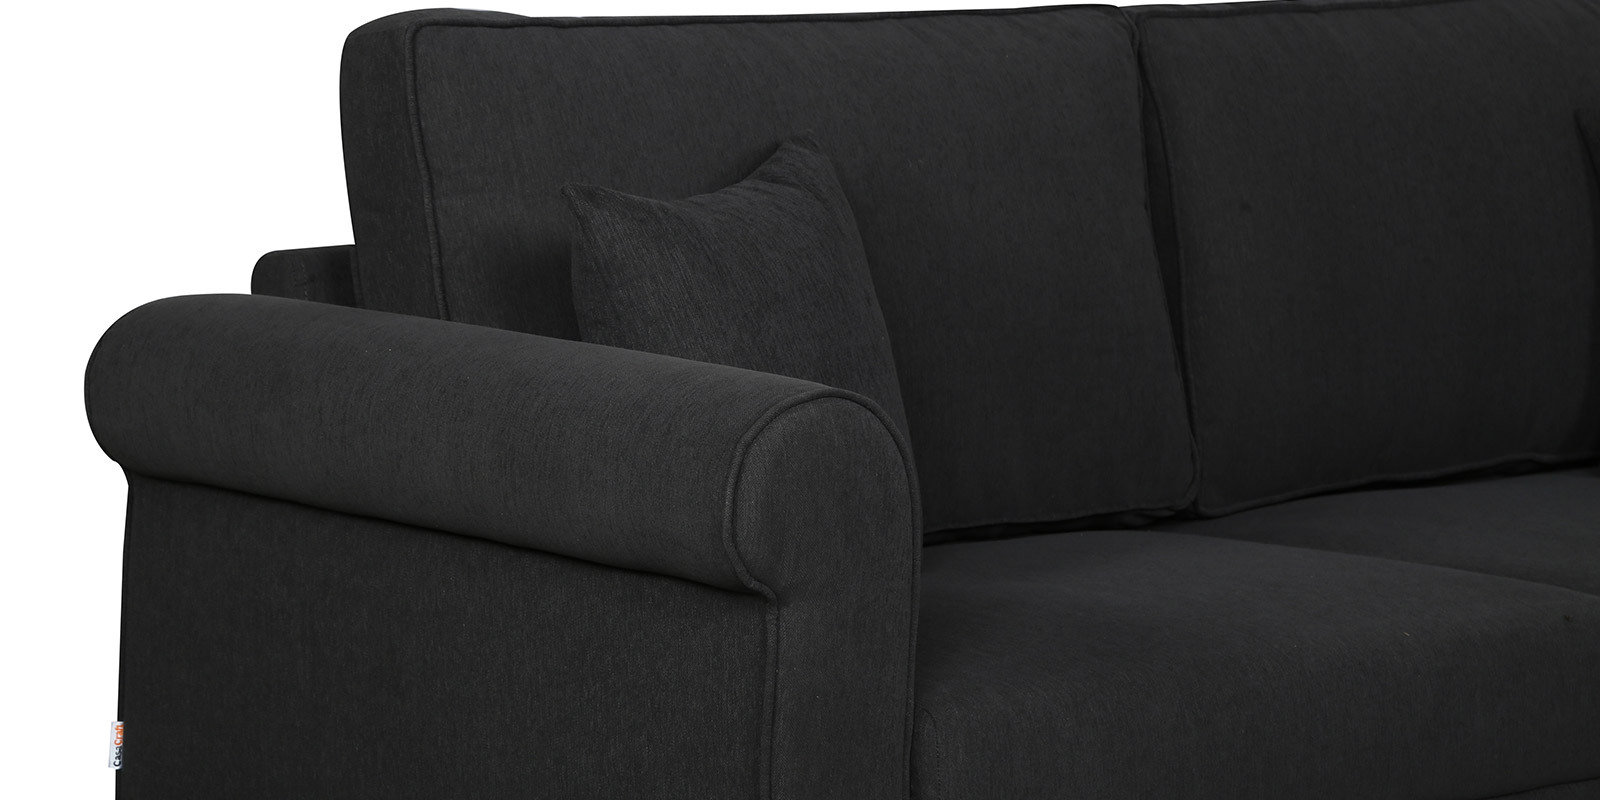Fuego Three Seater Sofa in Charcoal Grey Colour by CasaCraft: (32, 1, 1598, 799)
